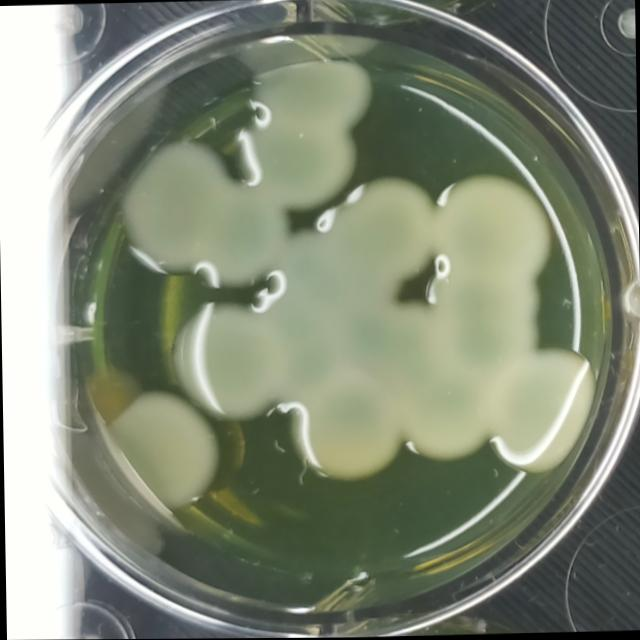vibrio: (123, 134, 290, 296), (243, 46, 380, 217), (478, 339, 601, 483), (322, 163, 442, 302), (422, 164, 558, 286), (101, 388, 231, 513), (285, 372, 409, 494), (163, 295, 283, 421), (394, 353, 504, 469)
